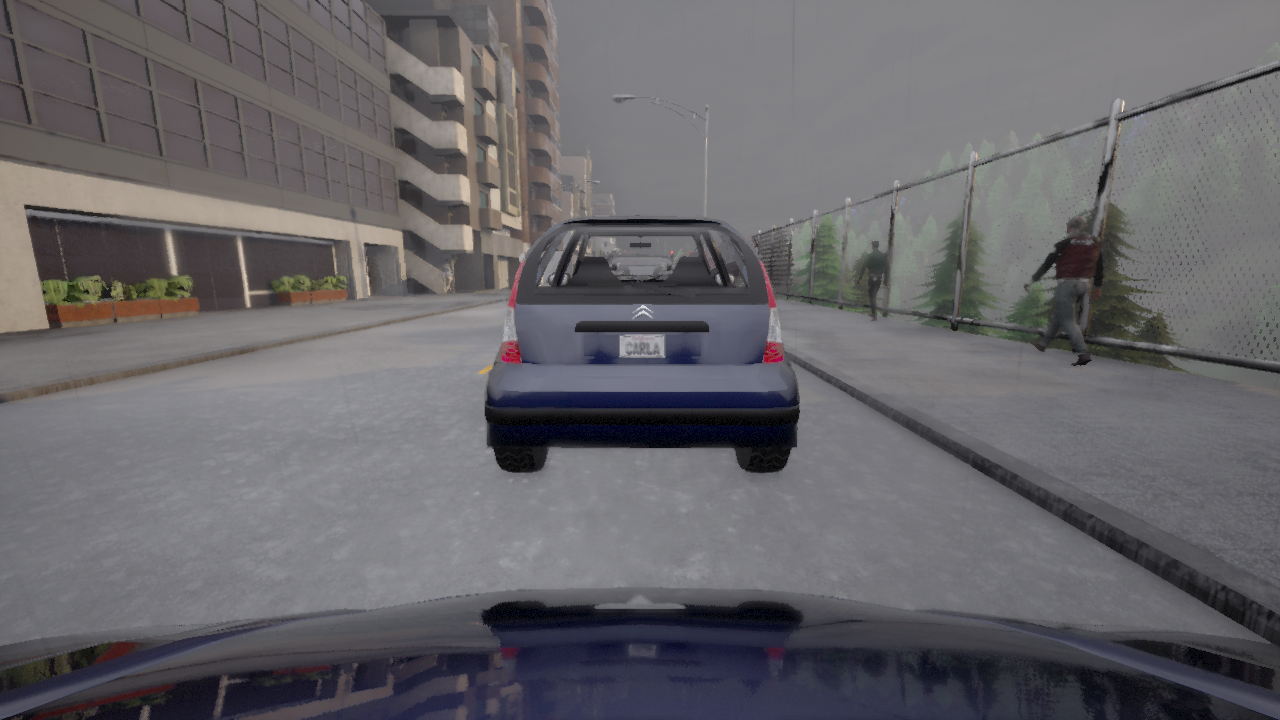cyclist: (0, 588, 1279, 719), (484, 216, 799, 472), (743, 234, 761, 260)
pedestrian: (1023, 215, 1106, 366), (856, 240, 889, 321), (438, 258, 455, 296)
